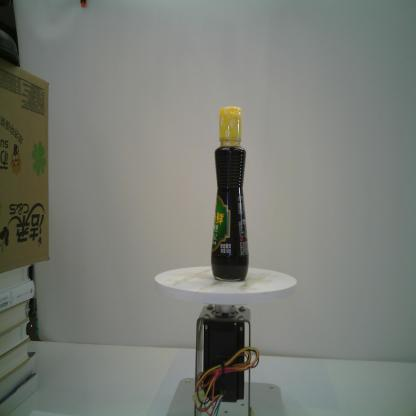Seasoner: (208, 106, 250, 286)
